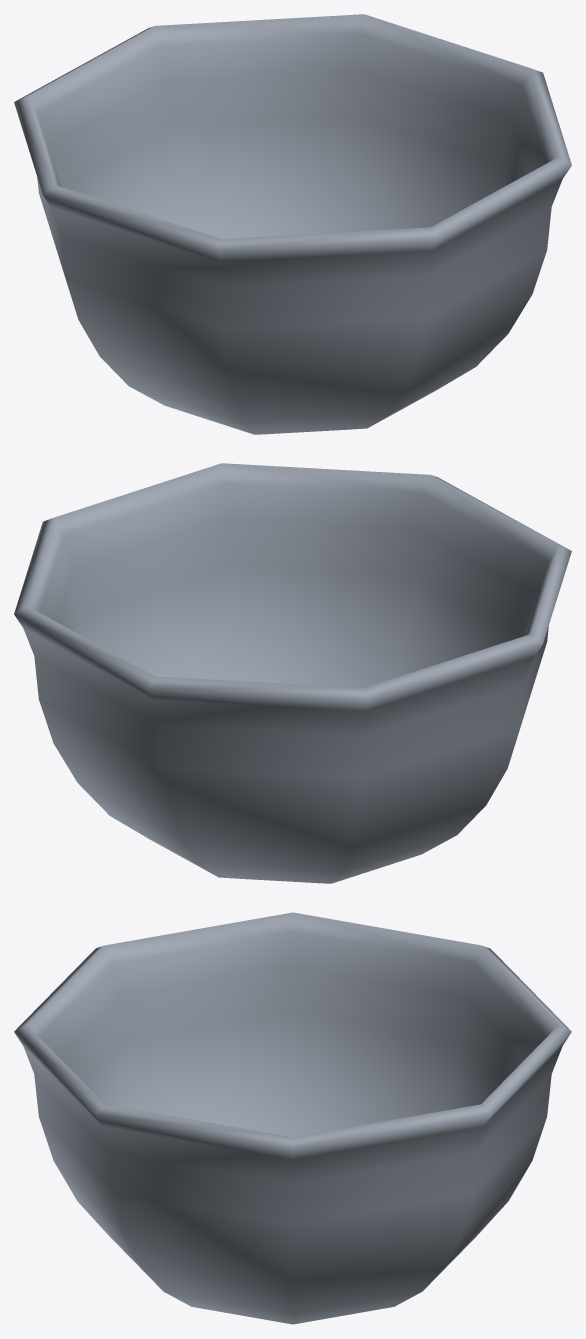
The model's file is mbowl_mixing_bowl_004.glb.
3 renders of one model, top to bottom at view 1: azimuth 30°, elevation 25°; view 2: azimuth 150°, elevation 25°; view 3: azimuth 270°, elevation 25°, orthographic. The views are drawn at different scales.
Visible parts, largest first — view 1: mbowl mixing bowl.004; view 2: mbowl mixing bowl.004; view 3: mbowl mixing bowl.004.
Part boxes in pixels (left/top/right/bottom): mbowl mixing bowl.004: left=14, top=14, right=571, bottom=434; mbowl mixing bowl.004: left=14, top=463, right=571, bottom=883; mbowl mixing bowl.004: left=14, top=912, right=571, bottom=1324.
Bounding box in the file's own units: 4.17 × 2.22 × 4.17.
1 material, 1 textured.
